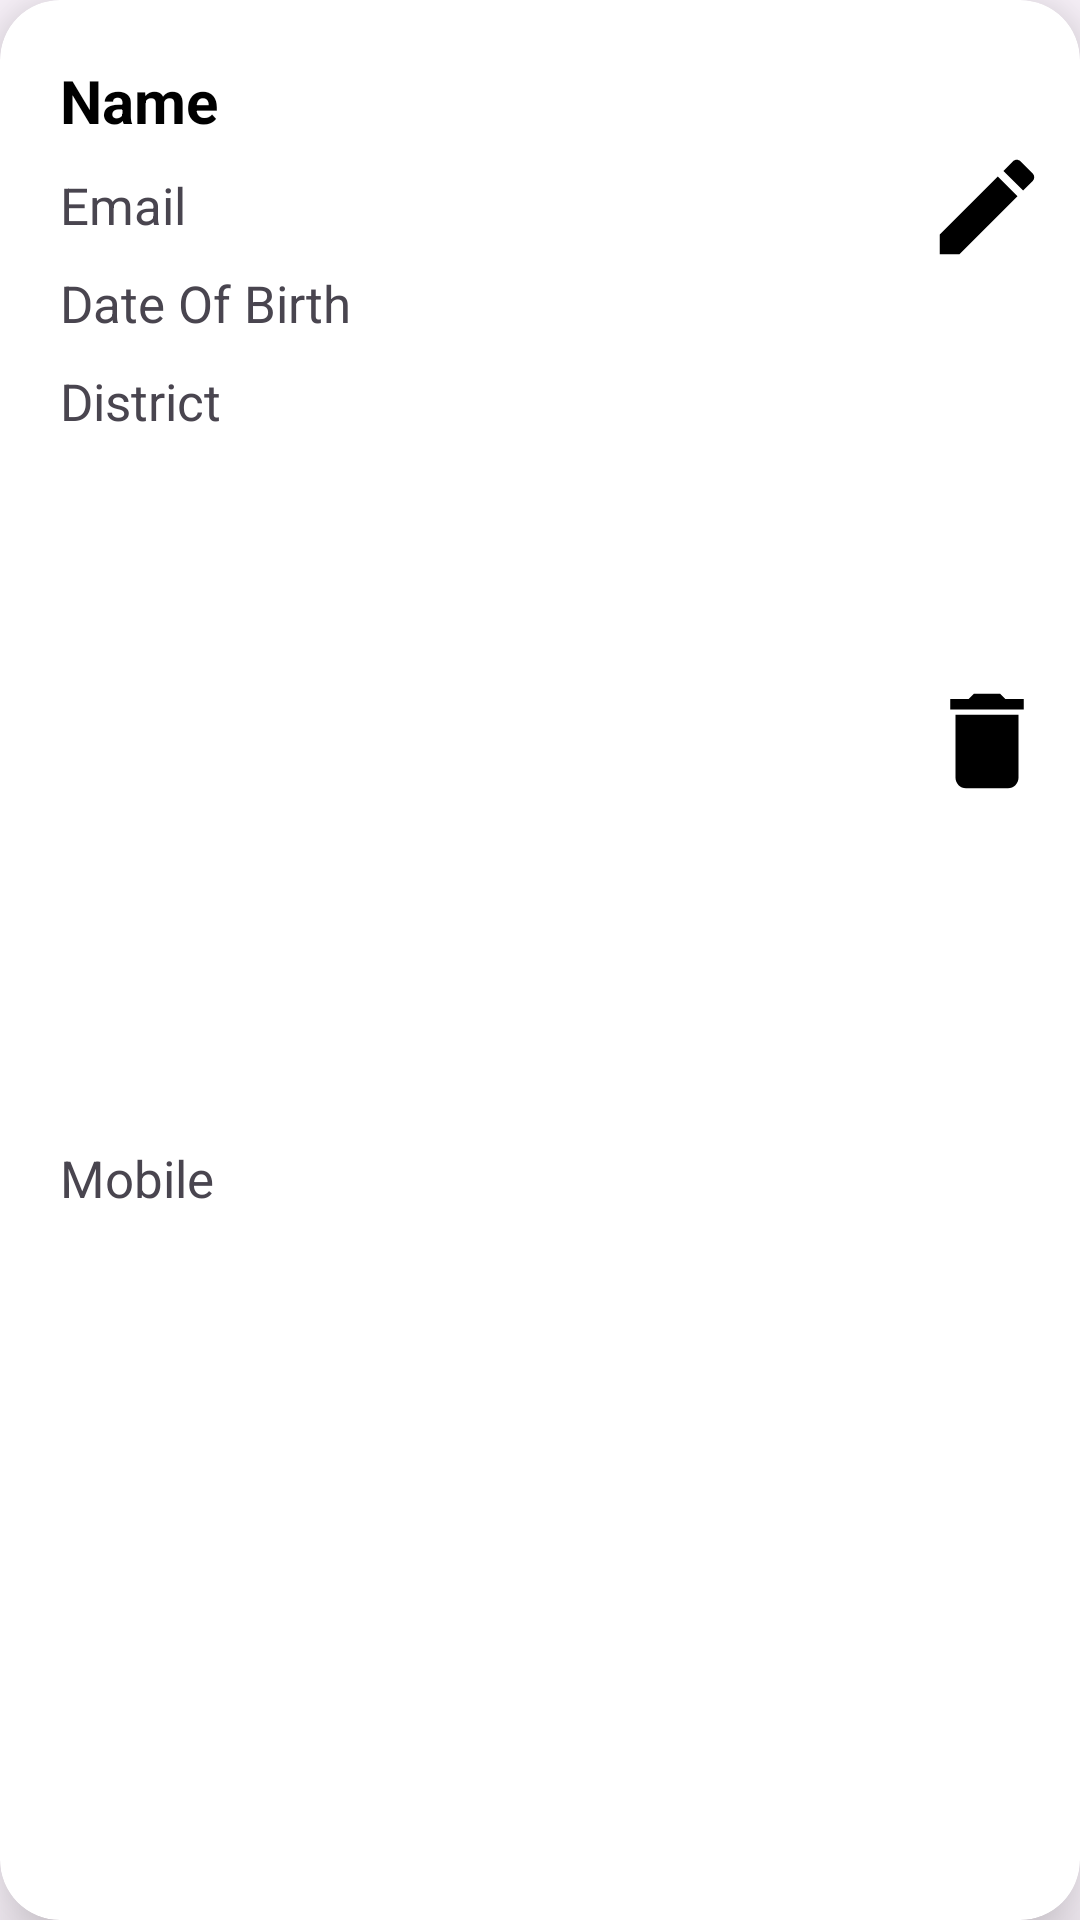

Where icons sit on this 1080 x 1920 app screen, as {"left": x1, "top": y1, "right": x2, "bottom": y2}:
delete: {"left": 950, "top": 693, "right": 1024, "bottom": 789}
edit: {"left": 939, "top": 159, "right": 1035, "bottom": 255}
